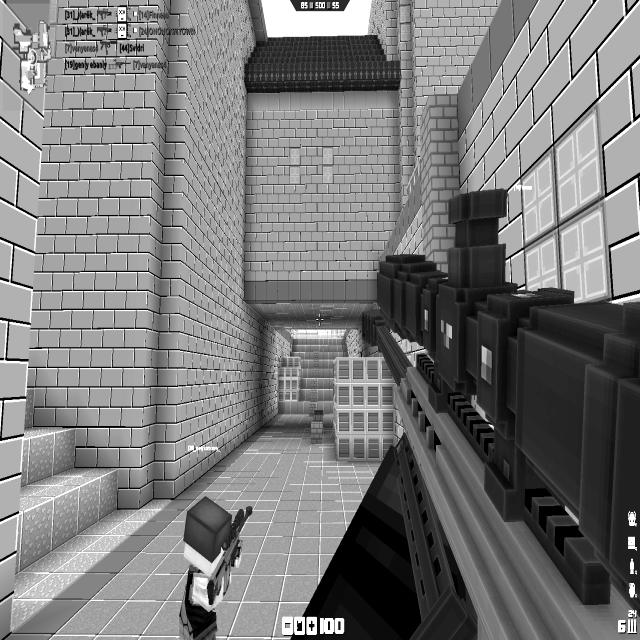Head: (188, 499, 230, 570)
Player: (178, 494, 252, 638)
